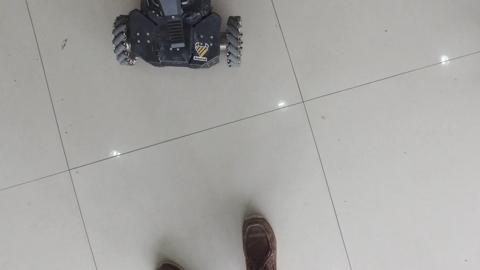chariot: (108, 1, 251, 86)
